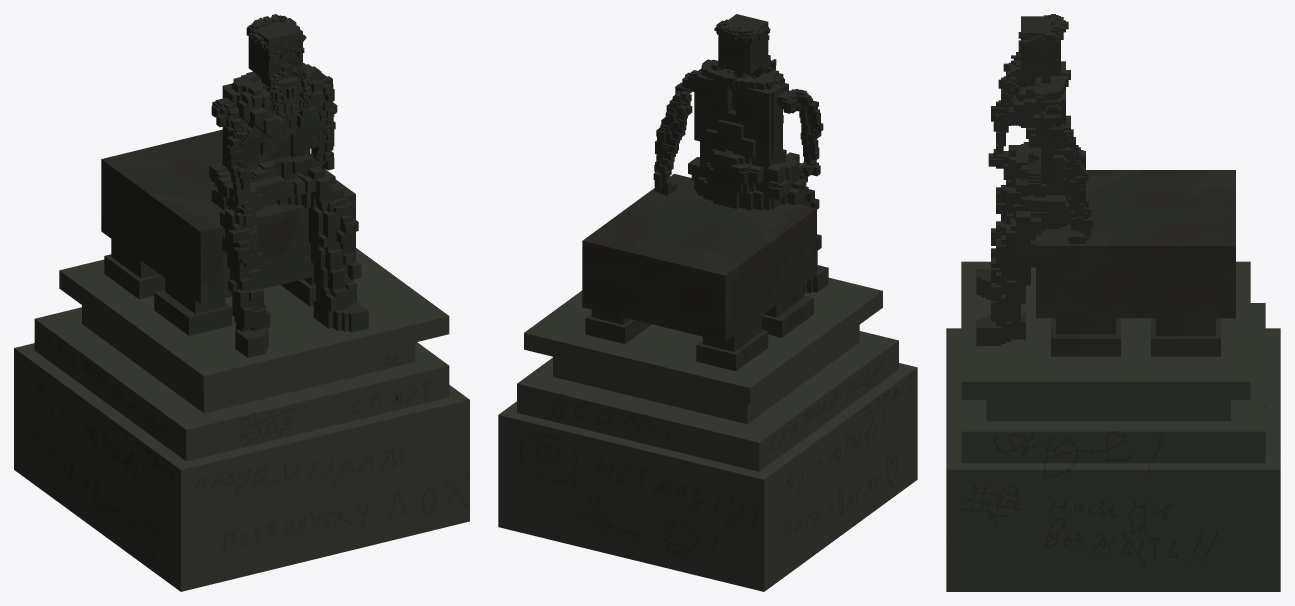
Rendered from dostoevsky.glb.
The picture shows the model from 3 angles, left to right: view 1: azimuth 30°, elevation 25°; view 2: azimuth 150°, elevation 25°; view 3: azimuth 270°, elevation 25°; orthographic projection. The views are drawn at different scales.
Parts seen in each view (by area): view 1: dostoevsky.001; view 2: dostoevsky.001; view 3: dostoevsky.001.
Boxes of the visible parts, box(x1,y1,x2,y2) form: dostoevsky.001: box(14, 14, 469, 591); dostoevsky.001: box(498, 14, 917, 591); dostoevsky.001: box(946, 14, 1280, 591).
Bounding box in the file's own units: 13.4 × 22 × 13.4.
1 material, 1 textured.
